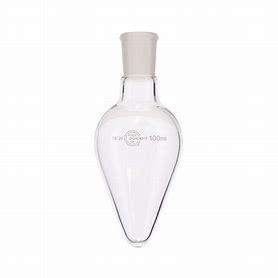Pear shaped flask: (96, 20, 180, 244)
